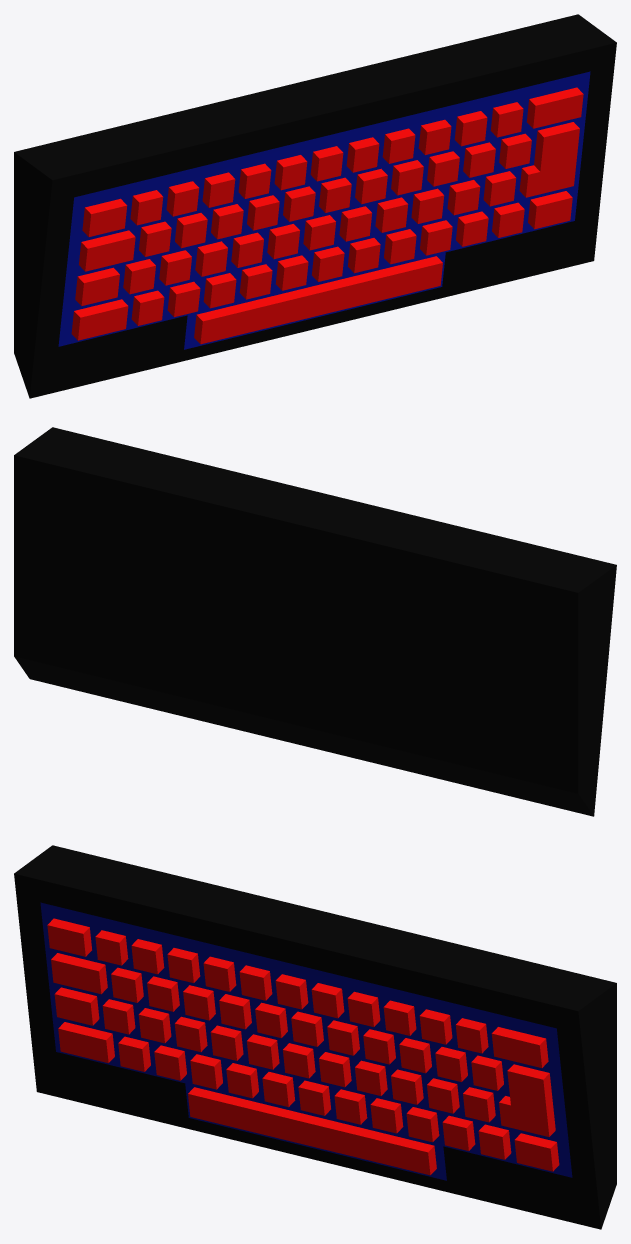
File: keyb.fbx
3 renders of one model, top to bottom at view 1: azimuth 30°, elevation 25°; view 2: azimuth 150°, elevation 25°; view 3: azimuth 330°, elevation 25°, orthographic.
Visible parts, largest first — view 1: Rack_Console_Keyboard; view 2: Rack_Console_Keyboard; view 3: Rack_Console_Keyboard.
Part boxes in pixels (x1,y1,x2,y2): Rack_Console_Keyboard: (14, 14, 616, 398); Rack_Console_Keyboard: (14, 427, 616, 816); Rack_Console_Keyboard: (14, 845, 616, 1229).
Bounding box in the file's own units: 0.47 × 0.1872 × 0.0594.
Materials: 1 (1 with a texture image).
